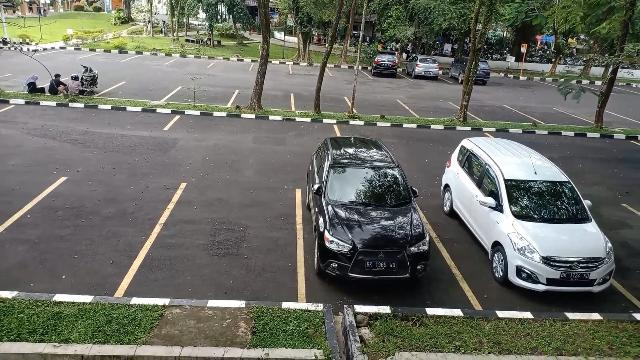empty: (0, 176, 152, 298), (152, 182, 304, 300), (113, 78, 177, 102), (233, 86, 294, 109), (292, 88, 348, 112), (178, 84, 236, 106), (469, 100, 527, 121), (349, 93, 409, 113), (412, 96, 466, 118), (526, 106, 580, 124), (170, 52, 214, 68), (288, 60, 329, 76), (211, 58, 253, 70)
occupied: (440, 173, 614, 307), (300, 162, 438, 302), (367, 50, 403, 78), (404, 58, 442, 82)
